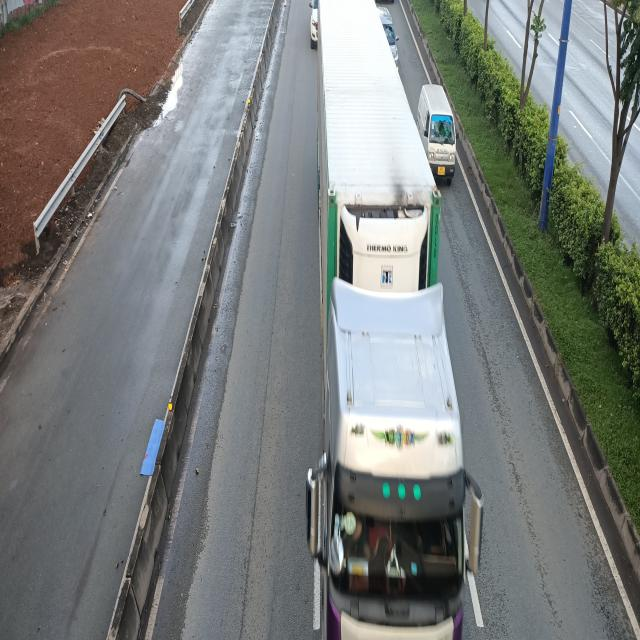container: (306, 0, 478, 640)
van: (418, 83, 459, 183)
